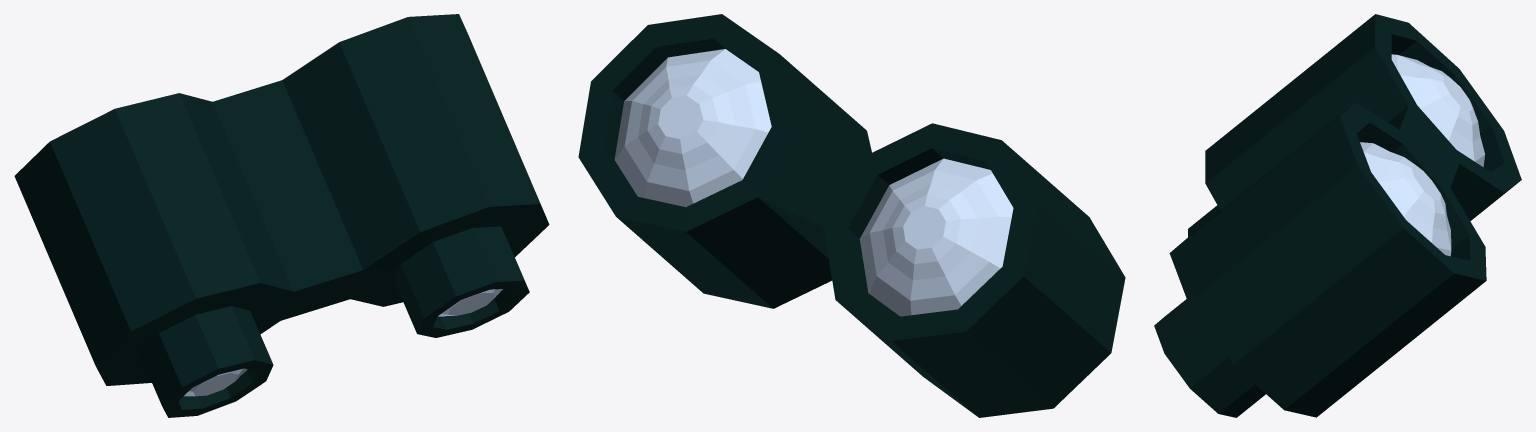
File: binoculars.fbx
3 renders of one model, left to right at view 1: azimuth 30°, elevation 25°; view 2: azimuth 150°, elevation 25°; view 3: azimuth 270°, elevation 25°, orthographic. The views are drawn at different scales.
Parts seen in each view (by area): view 1: binoculars; view 2: binoculars; view 3: binoculars.
Boxes of the visible parts, <box> form: binoculars: <box>14,14,549,417</box>; binoculars: <box>578,14,1125,417</box>; binoculars: <box>1154,14,1521,417</box>.
Bounding box in the file's own units: 455 × 320 × 323.
